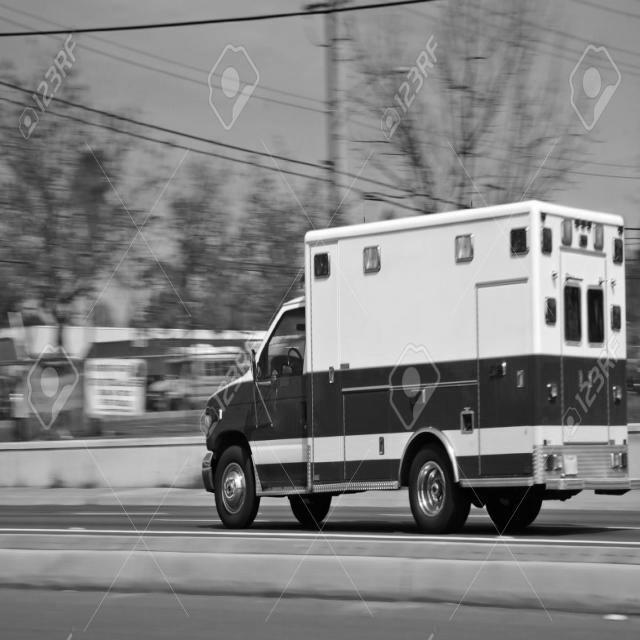Ambulance: (201, 200, 638, 536)
